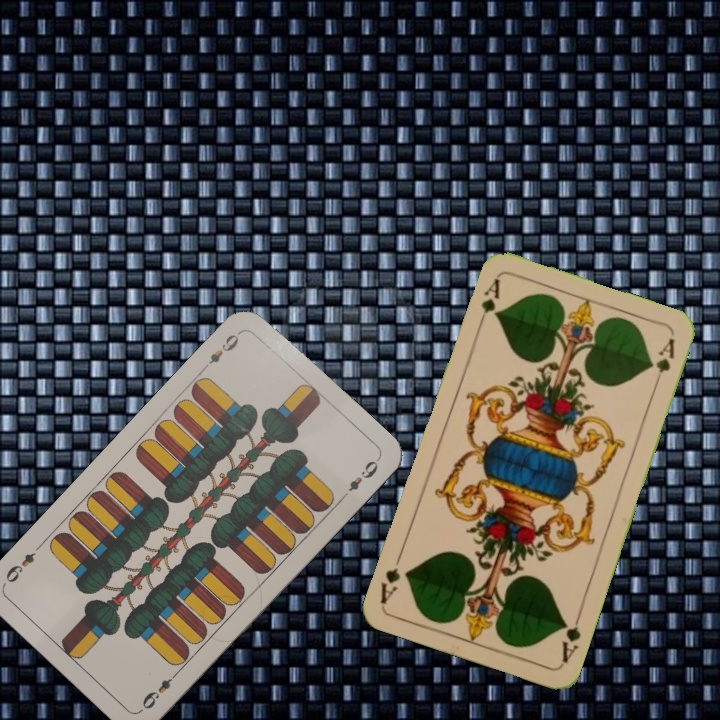E9: (198, 327, 243, 374), (138, 666, 182, 712)
GA: (474, 274, 503, 331), (557, 608, 584, 666)
